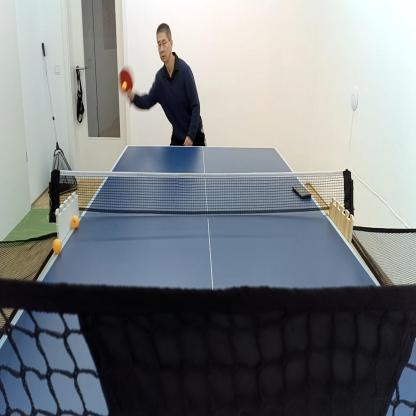Ball: (53, 239, 62, 253), (72, 216, 79, 228), (122, 80, 128, 93)
